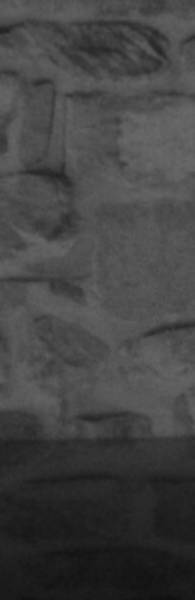water: (0, 439, 195, 600)
